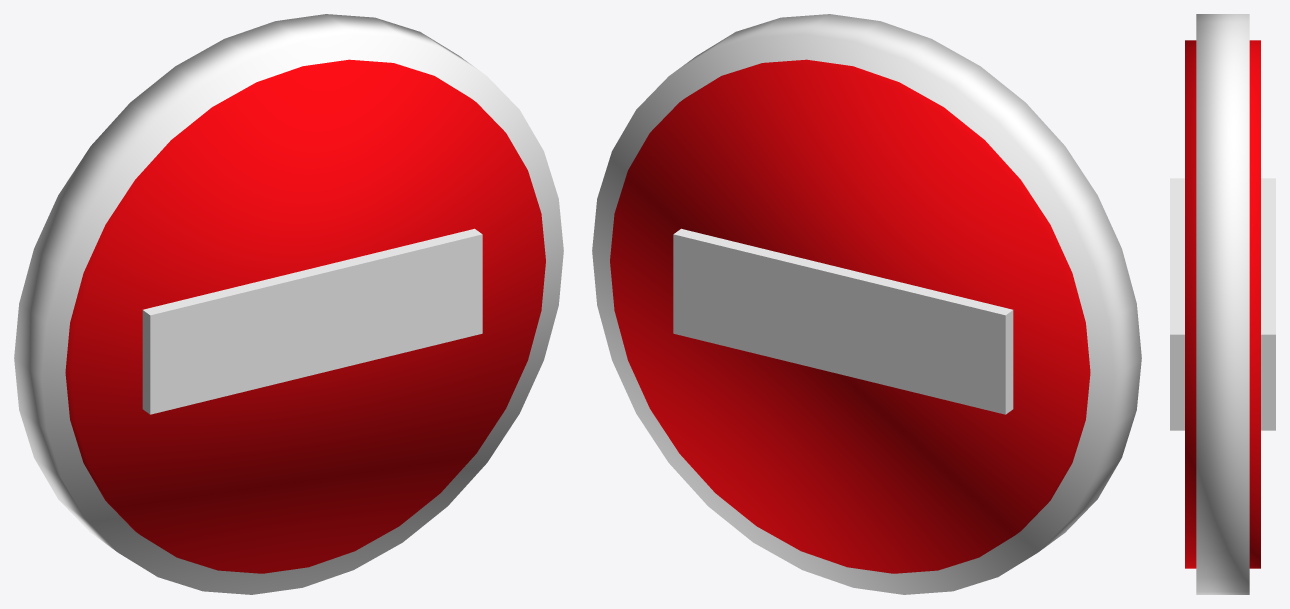
The model's file is avatar_forbidden.glb.
The picture shows the model from 3 angles, left to right: view 1: azimuth 30°, elevation 25°; view 2: azimuth 150°, elevation 25°; view 3: azimuth 270°, elevation 25°; orthographic projection. The views are drawn at different scales.
Parts seen in each view (by area): view 1: ForbiddenInnerCircle, ForbiddenOuterCircle, ForbiddenLine; view 2: ForbiddenInnerCircle, ForbiddenOuterCircle, ForbiddenLine; view 3: ForbiddenOuterCircle, ForbiddenInnerCircle, ForbiddenLine.
Part boxes in pixels (<box>): ForbiddenInnerCircle: <box>65,59,545,573</box>; ForbiddenOuterCircle: <box>14,14,563,594</box>; ForbiddenLine: <box>142,228,482,414</box>; ForbiddenInnerCircle: <box>610,59,1090,573</box>; ForbiddenOuterCircle: <box>592,14,1141,594</box>; ForbiddenLine: <box>673,228,1013,414</box>; ForbiddenOuterCircle: <box>1196,14,1249,594</box>; ForbiddenInnerCircle: <box>1185,40,1260,568</box>; ForbiddenLine: <box>1170,178,1275,430</box>.
Bounding box in the file's own units: 2.2 × 2.2 × 0.4.
